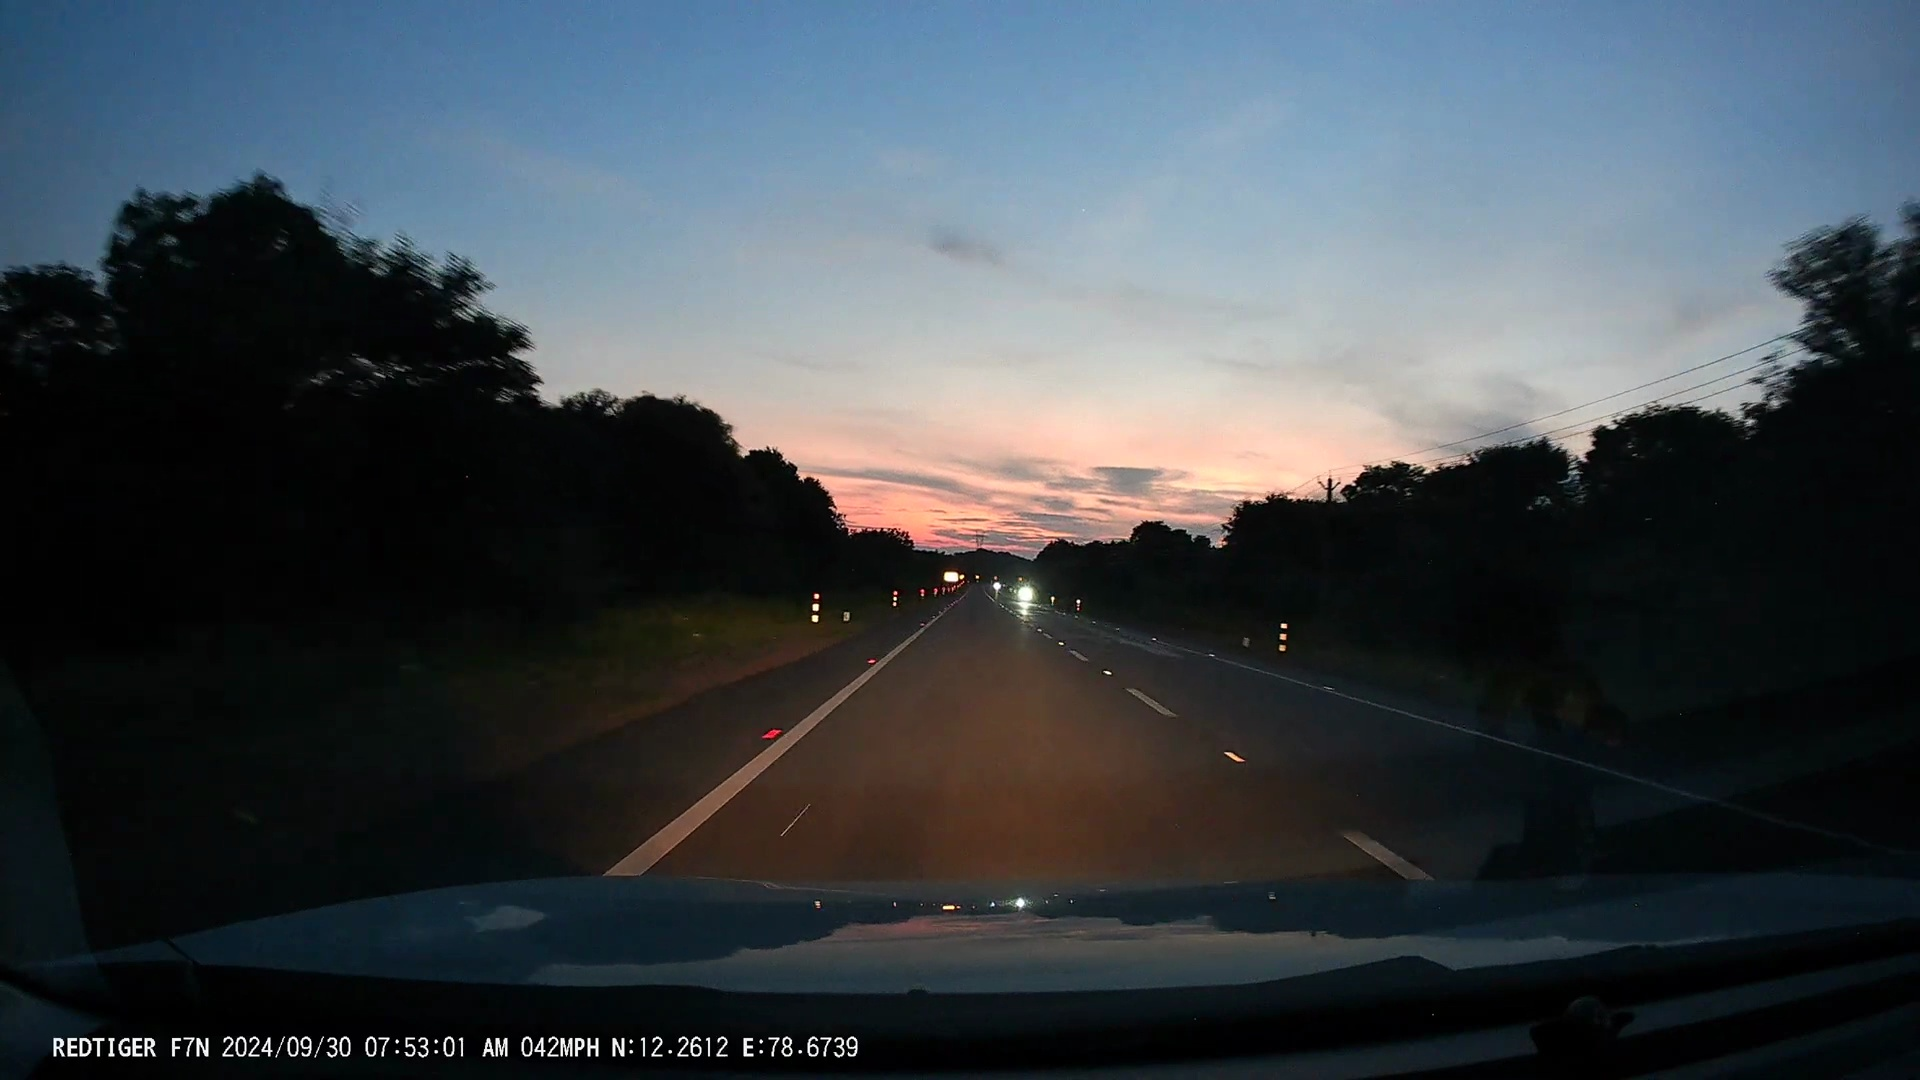headlight: (1017, 584, 1033, 603), (994, 582, 1001, 591)
two wheeler: (1018, 575, 1033, 611), (992, 574, 1000, 597)
